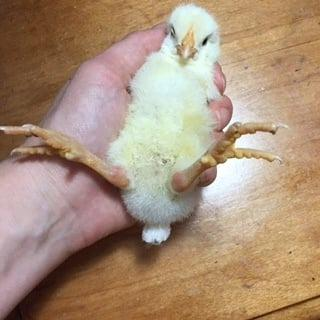AbNormal: (0, 5, 294, 242)
